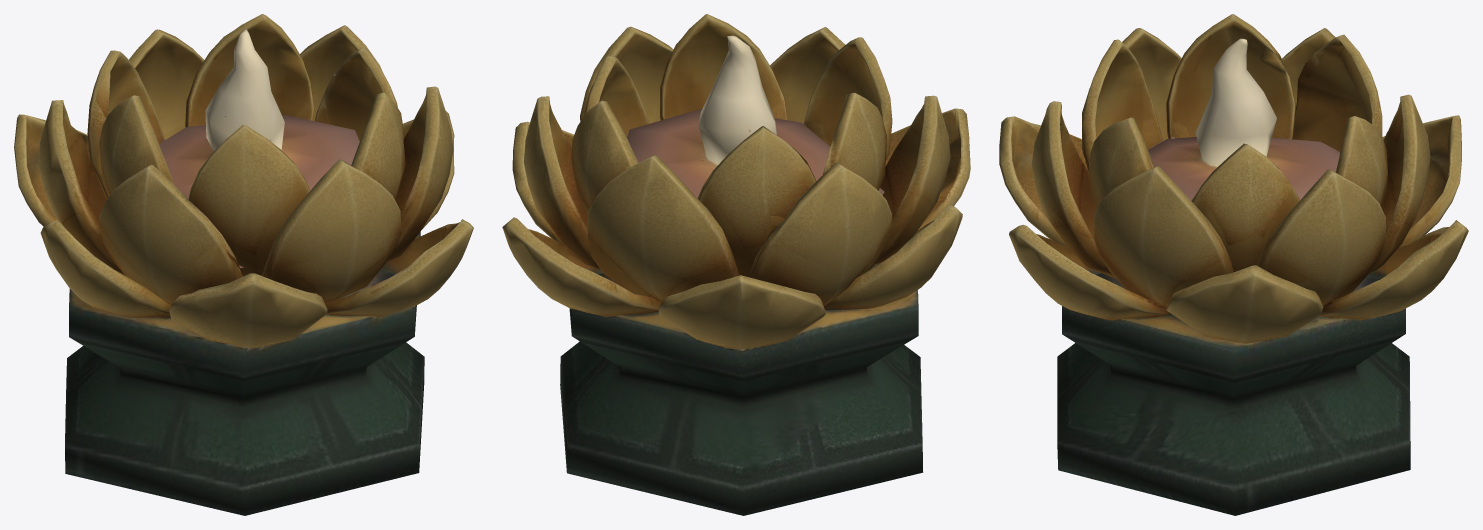
Rendered from tripo_convert_c5818a82-53e5-4756-abc4-e2f565a0de27.fbx.
The picture shows the model from 3 angles, left to right: view 1: azimuth 30°, elevation 25°; view 2: azimuth 150°, elevation 25°; view 3: azimuth 270°, elevation 25°; orthographic projection.
Visible parts, largest first — view 1: tripo_node_c5818a82; view 2: tripo_node_c5818a82; view 3: tripo_node_c5818a82.
Boxes of the visible parts, bbox=[...] form: tripo_node_c5818a82: bbox=[14, 14, 473, 515]; tripo_node_c5818a82: bbox=[502, 14, 970, 515]; tripo_node_c5818a82: bbox=[999, 14, 1468, 515].
Bounding box in the file's own units: 0.998 × 0.8926 × 0.9668.
Materials: 1 (1 with a texture image).
